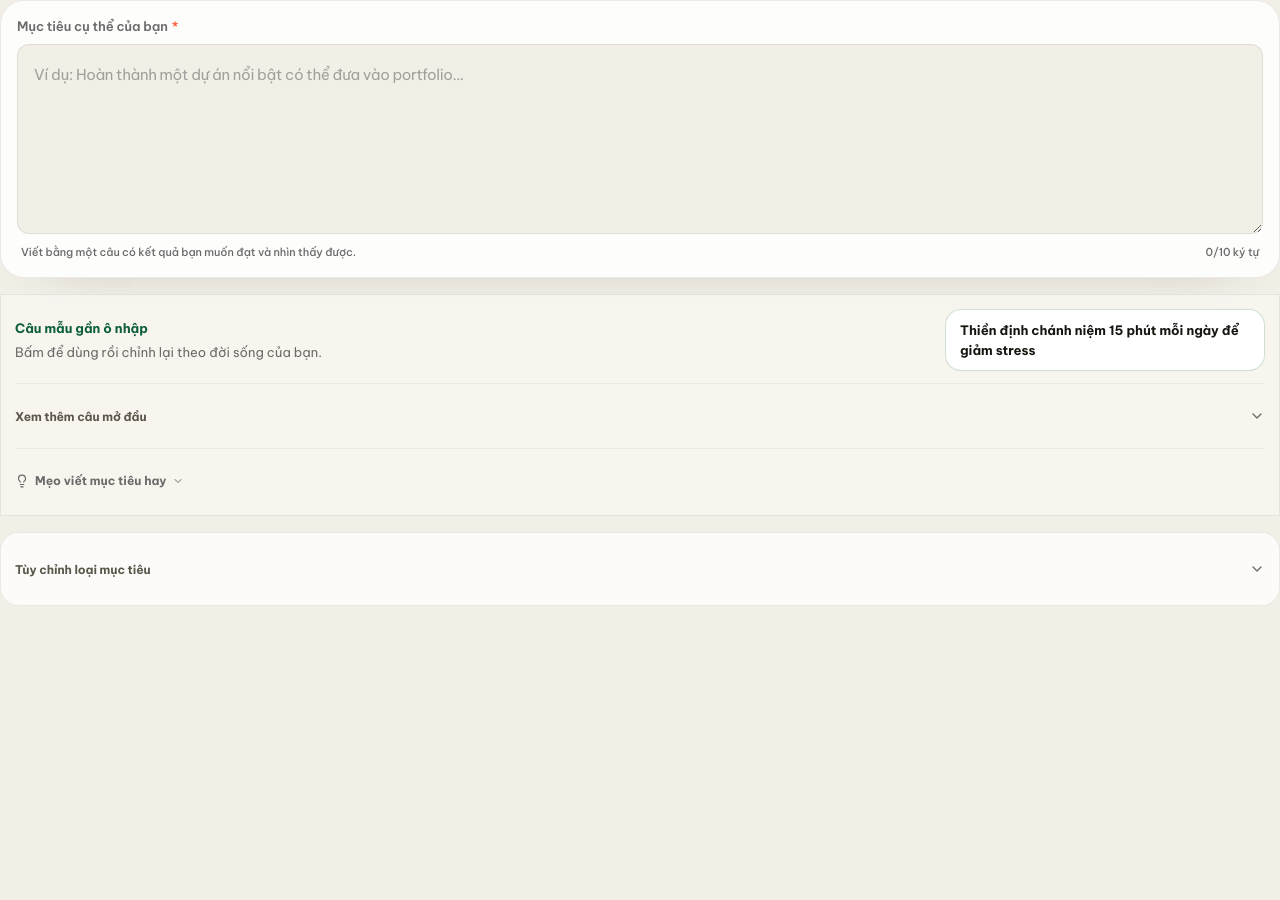
SpecificStep — inline validation + giữ dữ liệu › hiện lỗi cạnh field ngay sau khi blur field không hợp lệ, trong ≤ 500ms (Req 13.1, 13.2)
Expected: the text "Mục tiêu cụ thể cần ít nhất 10 ký tự có nghĩa." is not shown
# Blur field khi còn rỗng → không đạt điều kiện hợp lệ.
Click the text box labelled "Mục tiêu cụ thể của bạn*".
click(640, 139)  # box [17,44,1263,234]
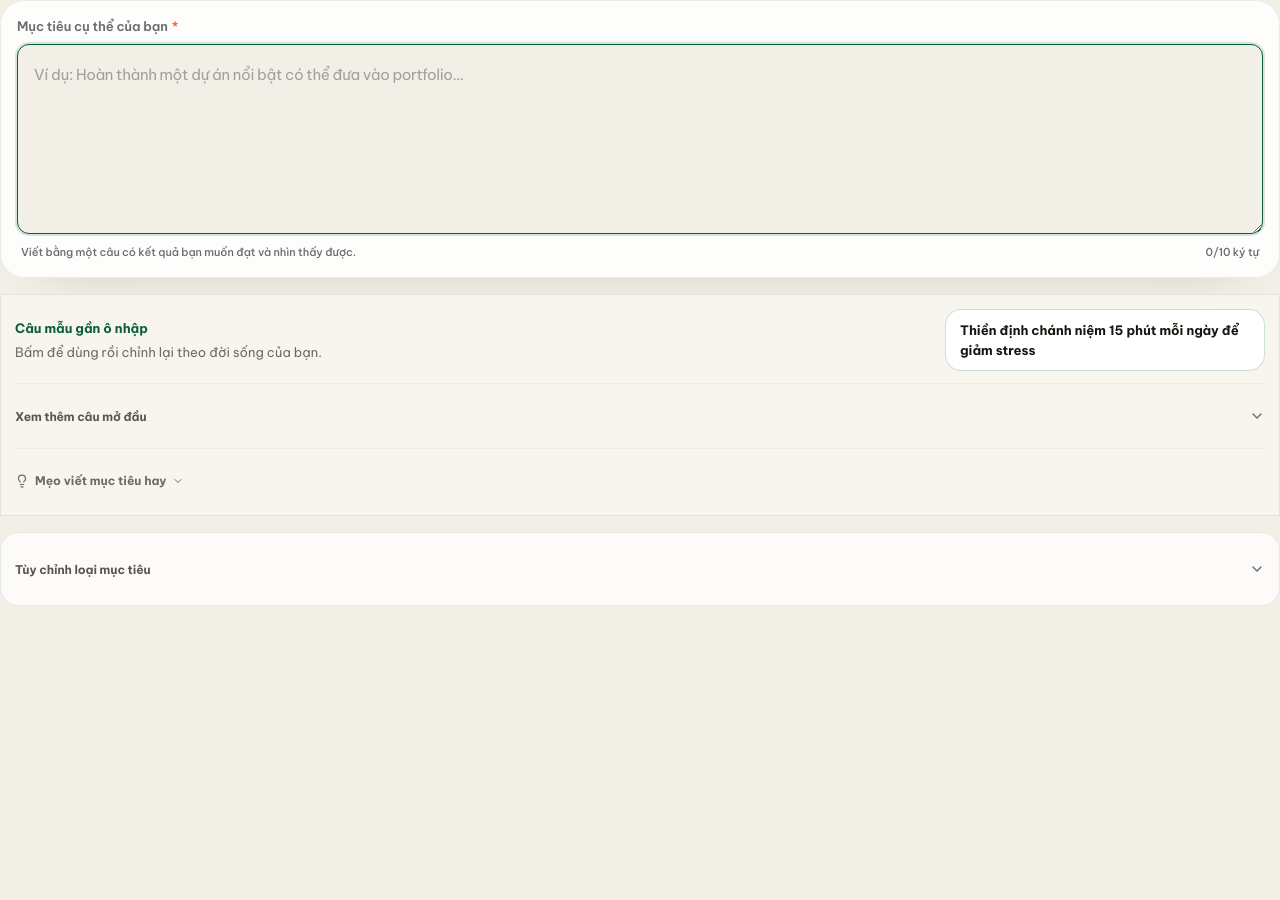
Press Tab
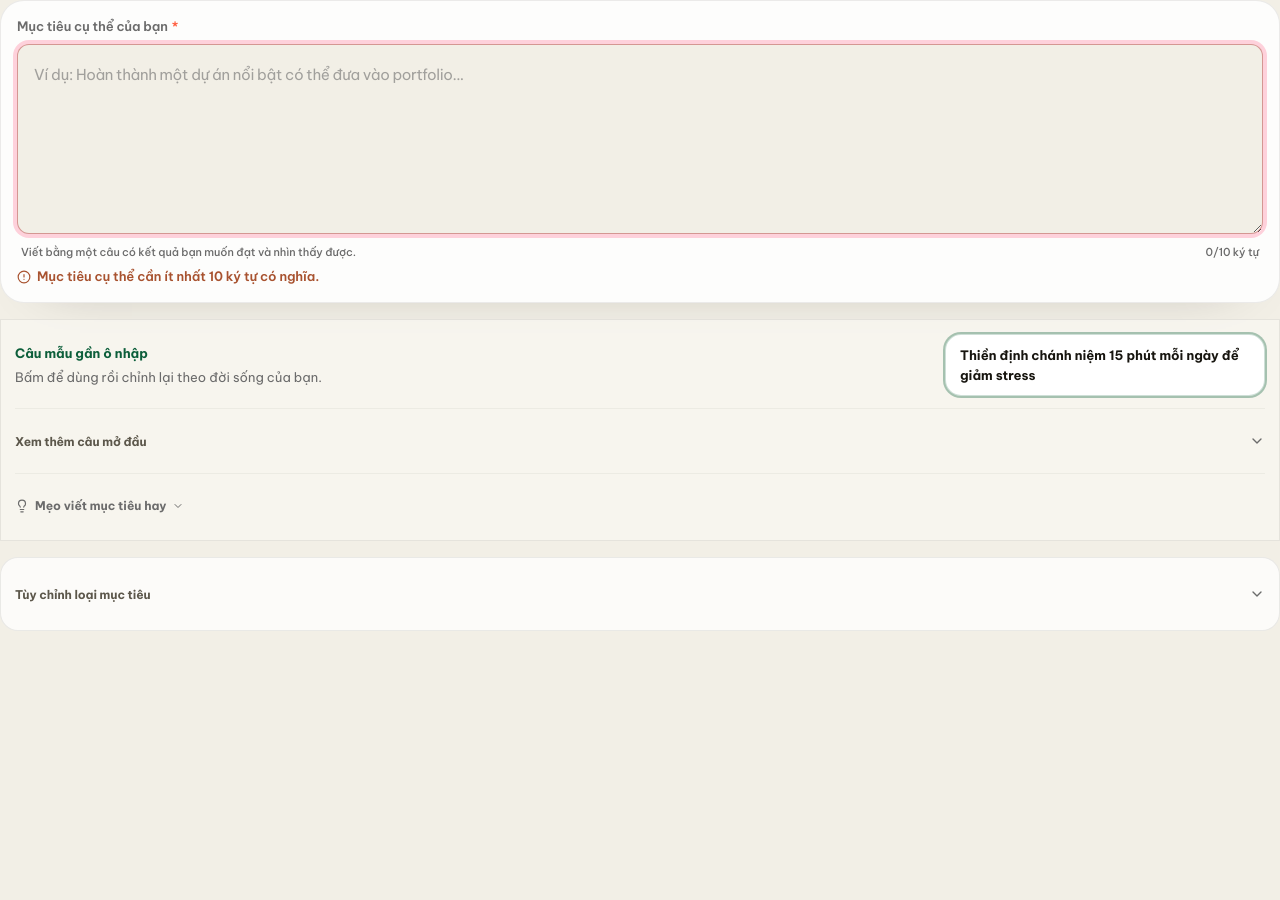
Expected: the text "Mục tiêu cụ thể cần ít nhất 10 ký tự có nghĩa." is shown, [37,267,319,286]
